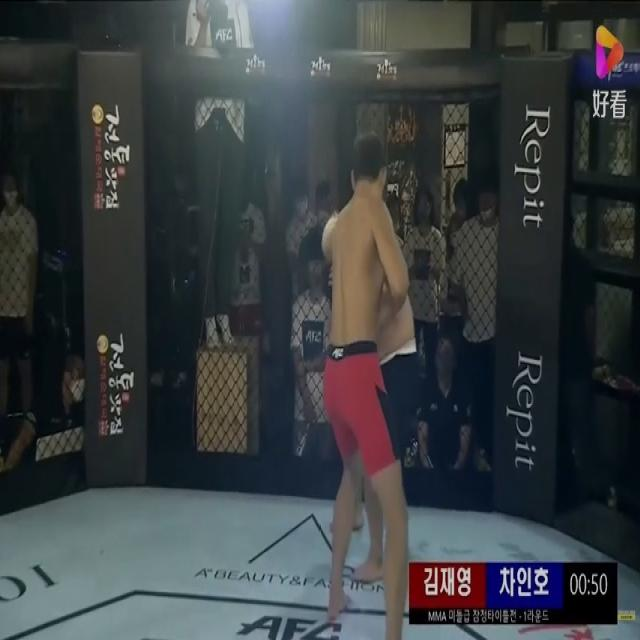fight: (287, 121, 452, 639)
